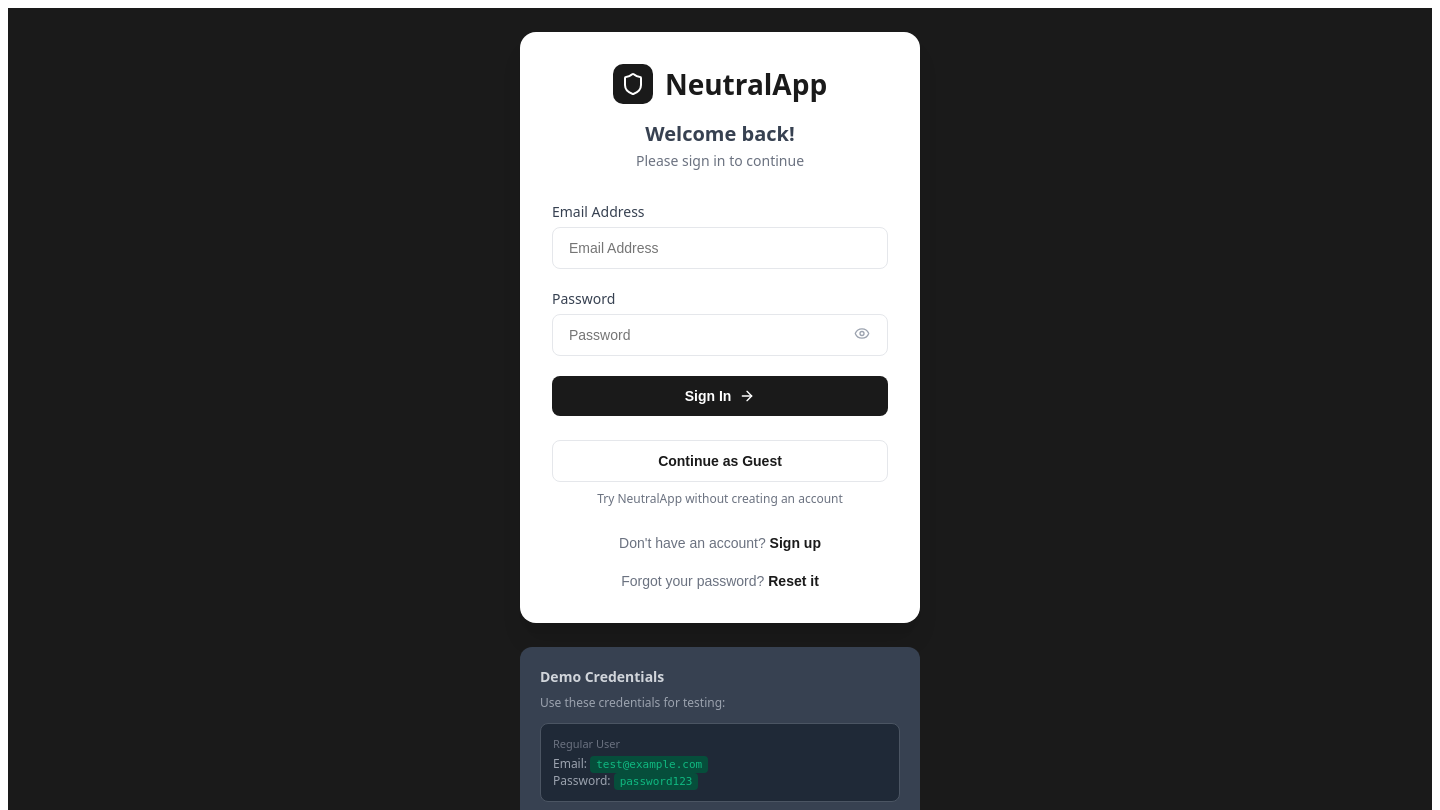
Scenario: AuthPage › Login Mode › should handle login failure
The image size is (1440, 810).
In the field with placeholder "Email Address": {"x": 720, "y": 248} left=552, top=227, right=888, bottom=269, type "test@example.com"
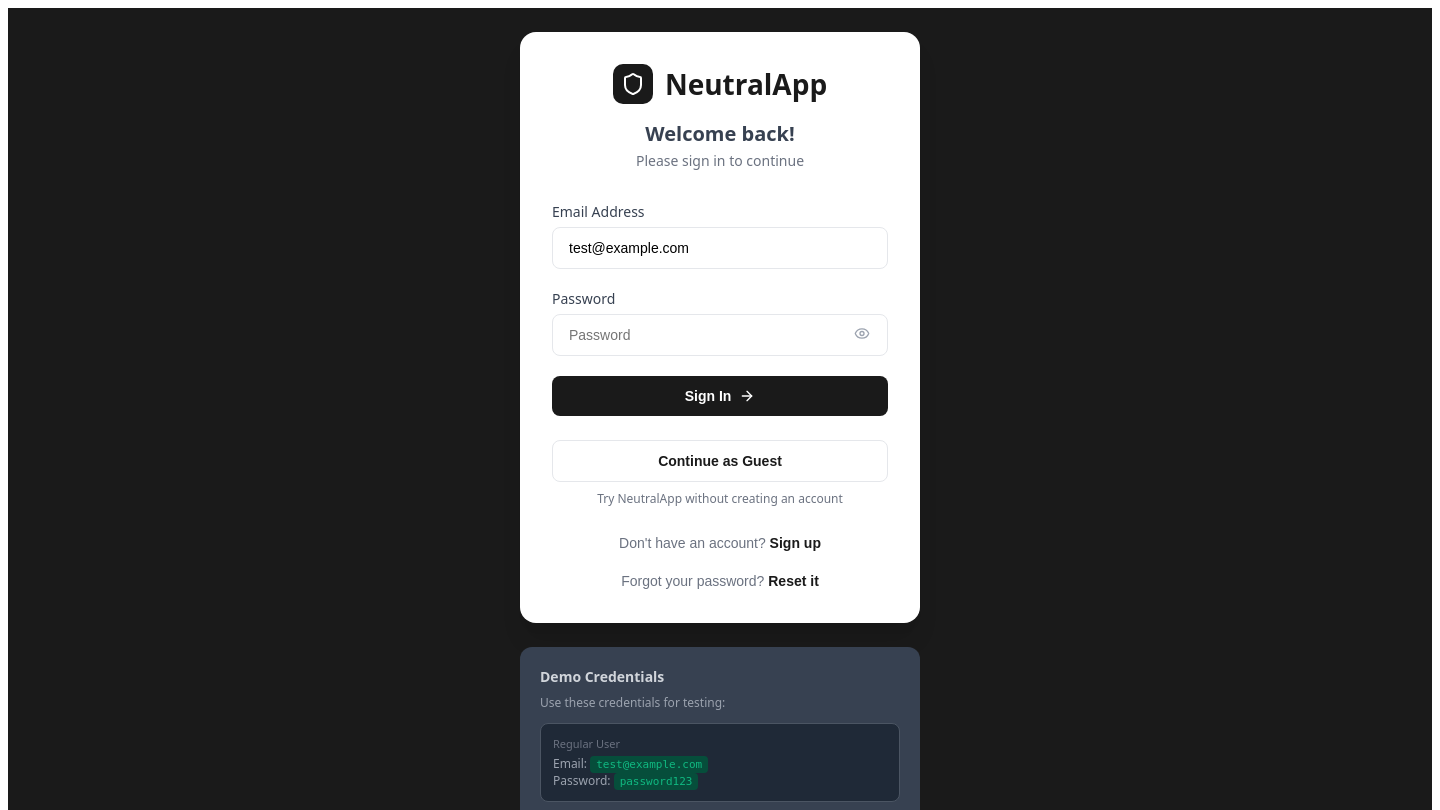
In the password field with placeholder "Password": {"x": 720, "y": 335} left=552, top=314, right=888, bottom=356, type "wrongpassword"
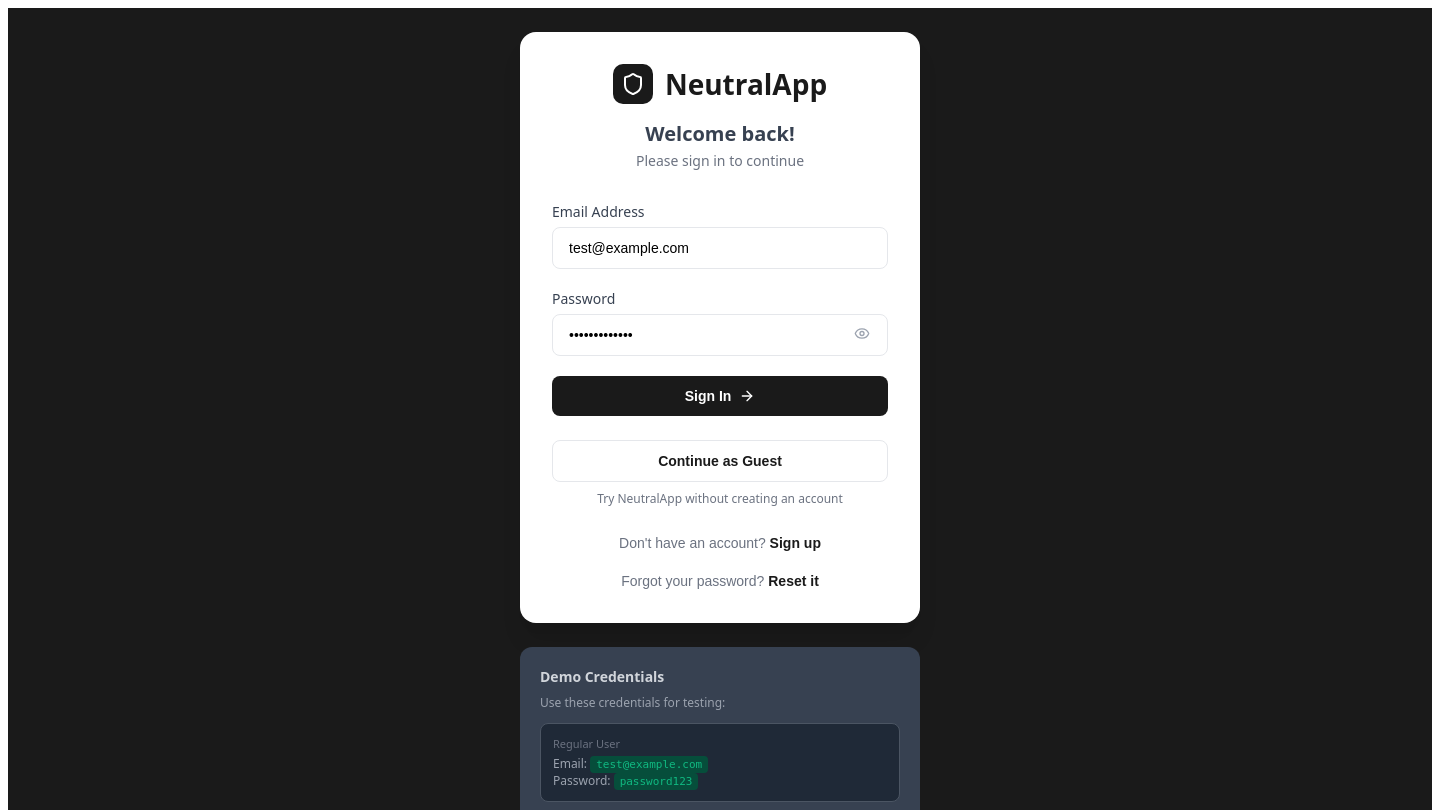
Click the button "Sign In": {"x": 720, "y": 396} left=552, top=376, right=888, bottom=416
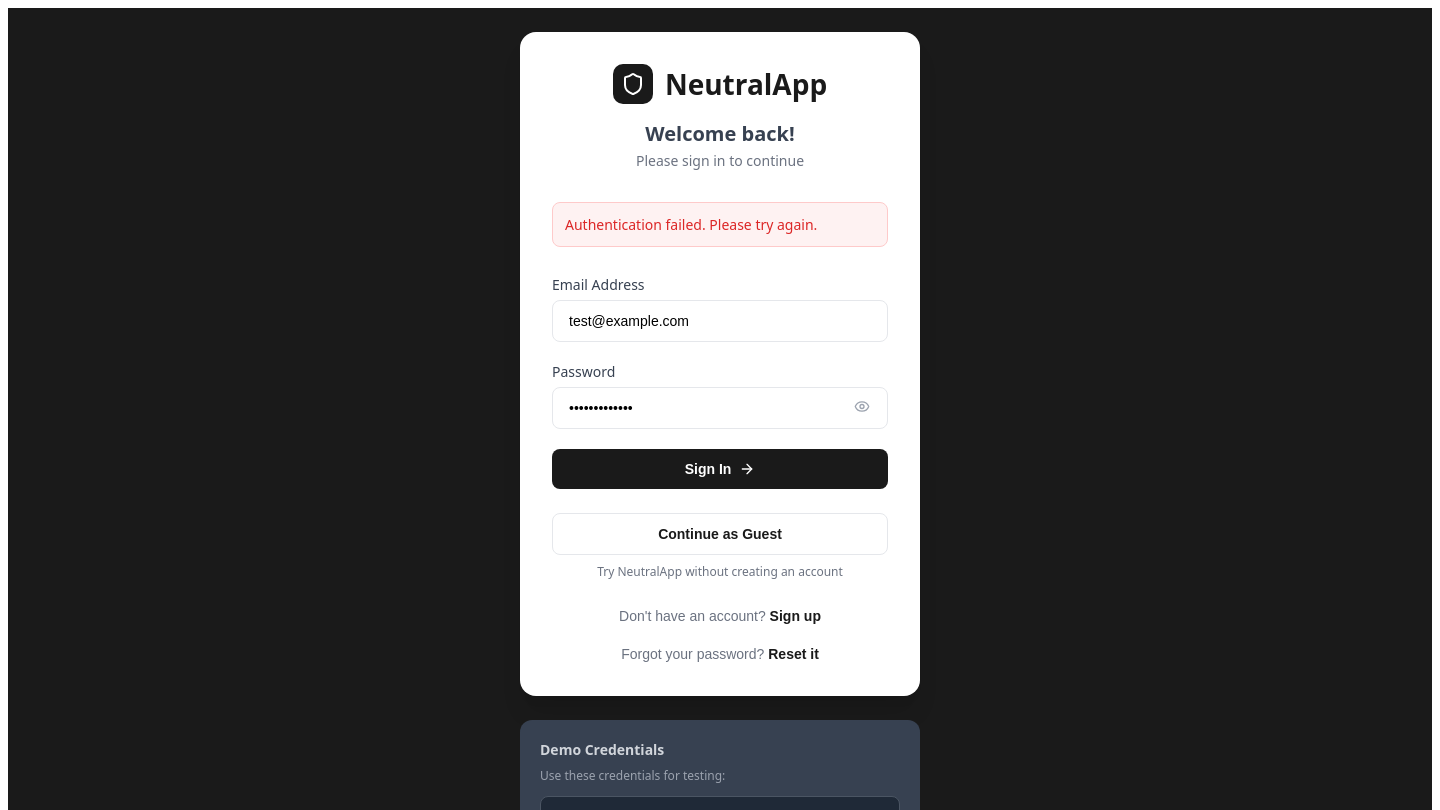
Check: the text "Authentication failed. Please try again." is shown, box left=565, top=215, right=817, bottom=234
